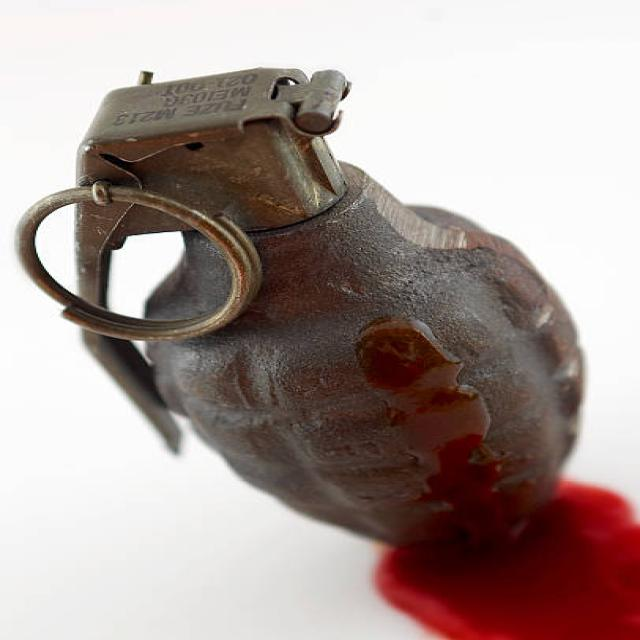grenade: (1, 60, 603, 575)
